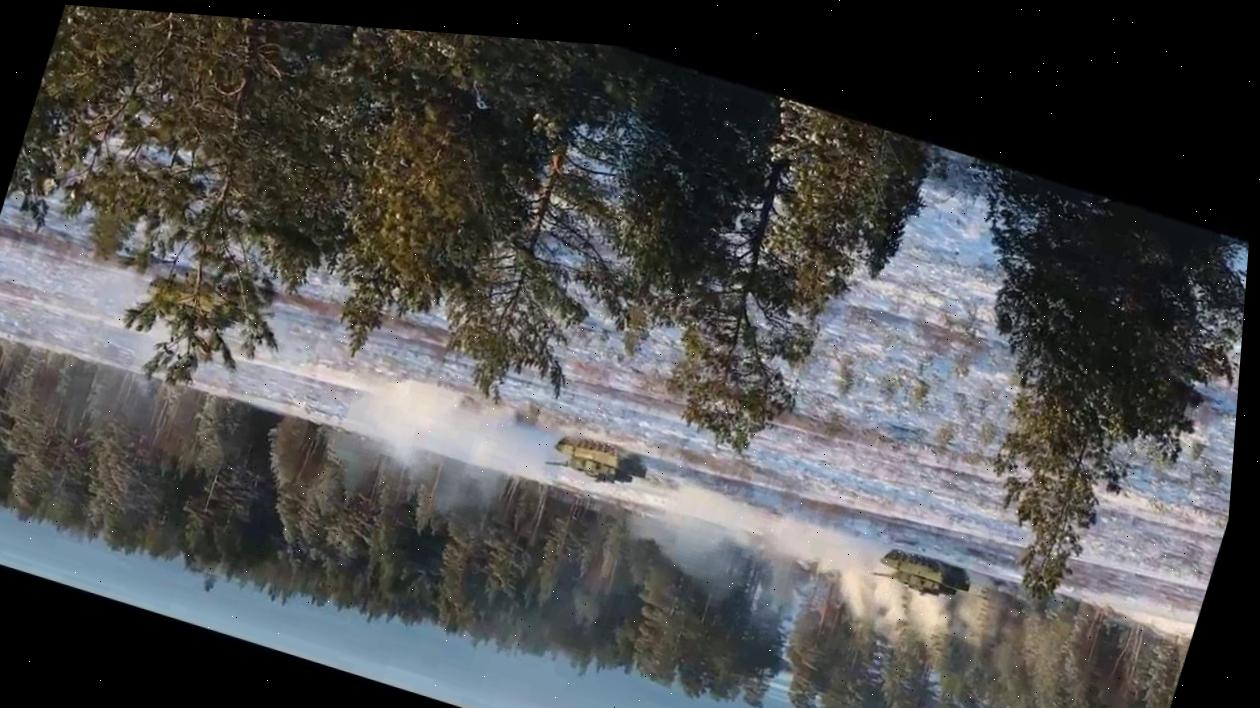tank: (543, 427, 653, 495), (869, 541, 977, 608)
